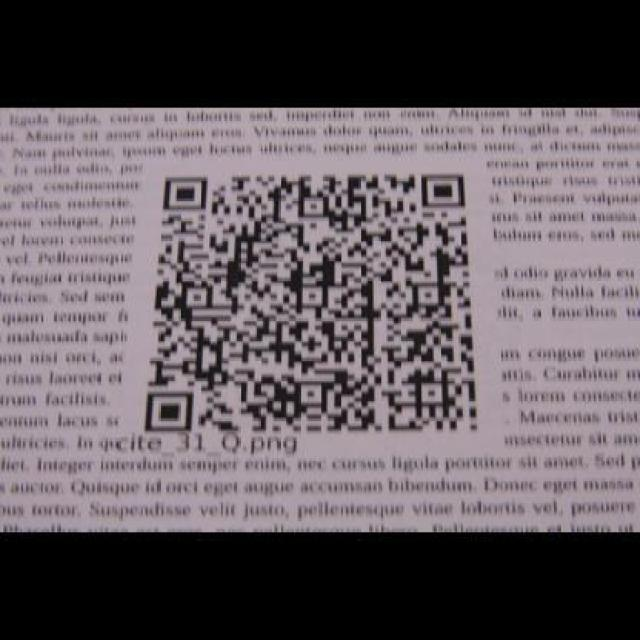QRCode: (137, 166, 485, 436)
